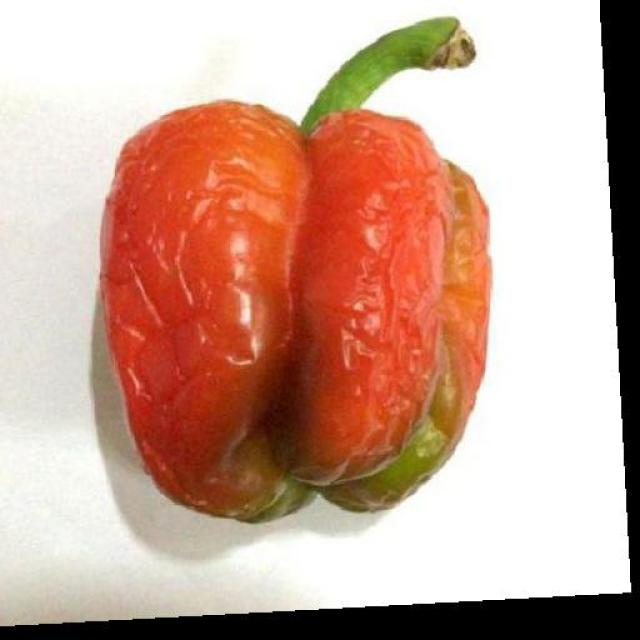Stale_Capsicum: (80, 64, 482, 590)
